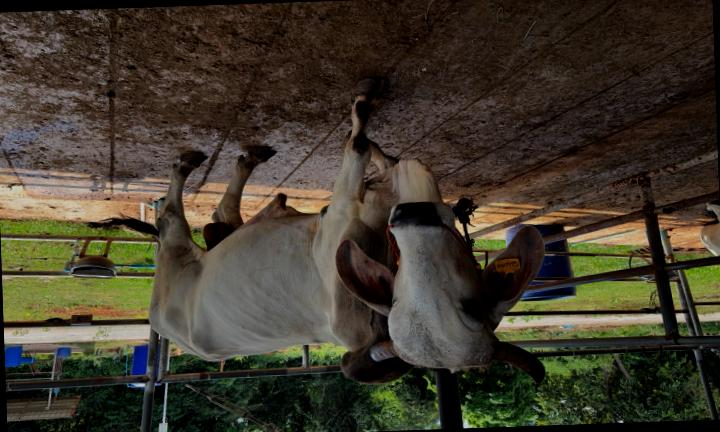Brahman: (107, 78, 544, 384)
